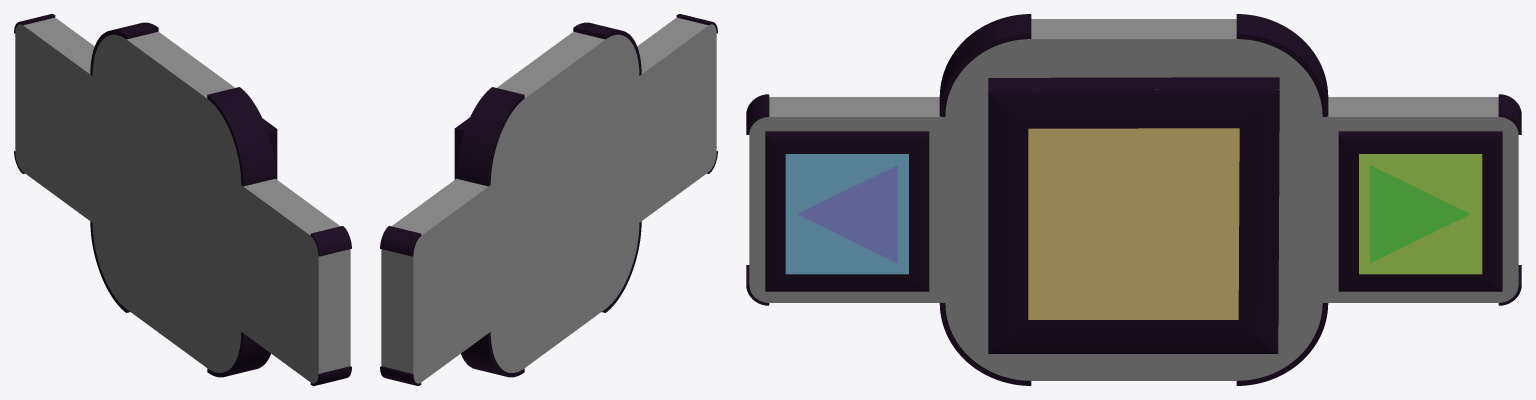
The model's file is slider_control_head.fbx.
3 views of the same model, side by side, from view 1: azimuth 30°, elevation 25°; view 2: azimuth 150°, elevation 25°; view 3: azimuth 270°, elevation 25° (orthographic). The views are drawn at different scales.
Parts seen in each view (by area): view 1: Cube.001; view 2: Cube.001; view 3: Cube.001.
Part boxes in pixels (x1=…): Cube.001: x1=14, y1=14, x2=351, y2=385; Cube.001: x1=380, y1=14, x2=717, y2=385; Cube.001: x1=746, y1=14, x2=1521, y2=385.
Size of the model in its own units: 87.08 by 412 by 823.
